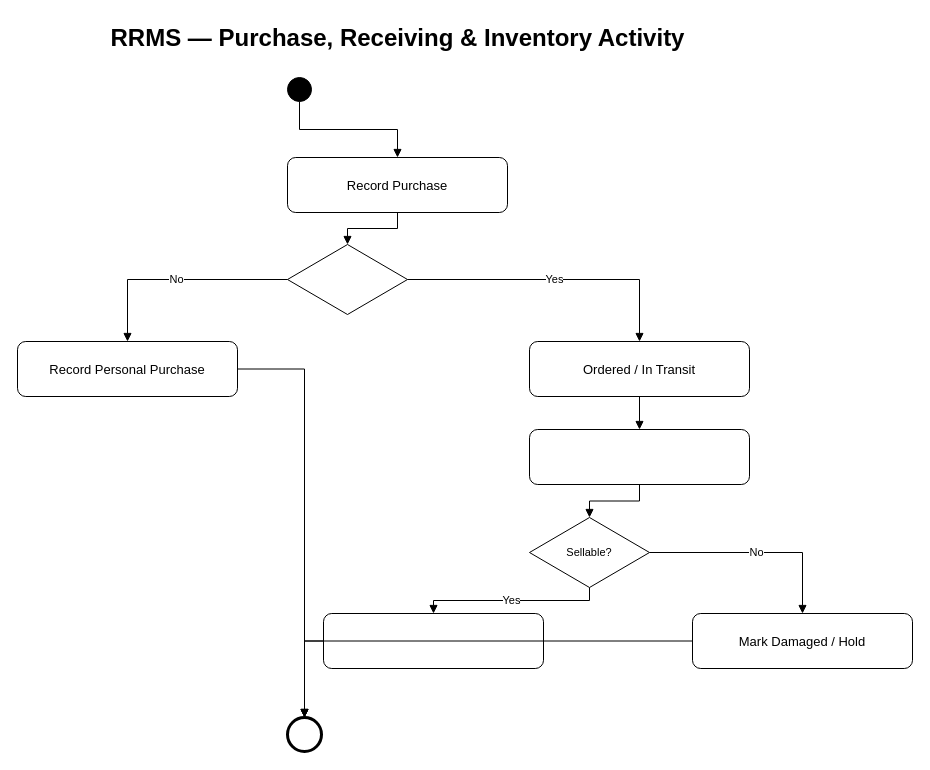
Image size: 930x770. Some labels were removed from this diagram. The centre of each missing label's shape, as x and y in pixels:
Business?: [347,279]
Mark Available: [433,640]
Receive Product: [639,456]
